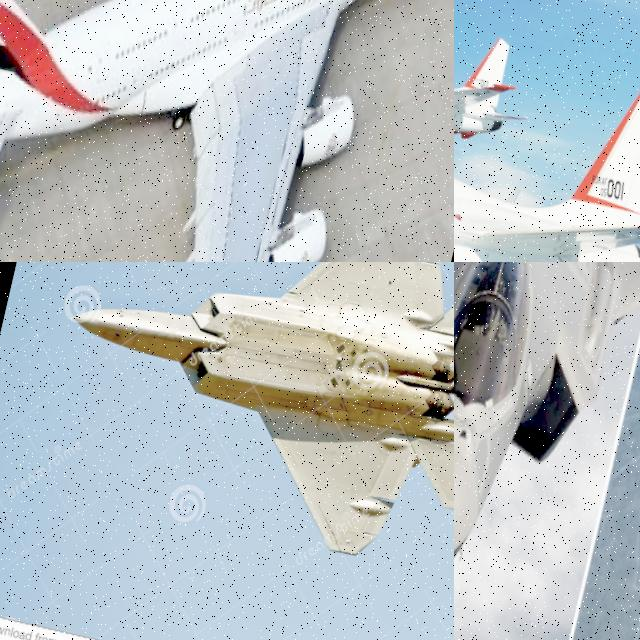A380: (0, 0, 454, 262)
F22: (27, 262, 454, 580), (454, 262, 640, 615), (565, 262, 640, 640)
KT-1: (454, 0, 640, 262), (454, 0, 546, 167)
